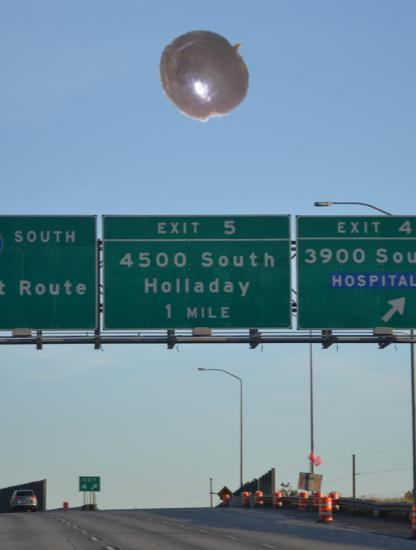Passion: (158, 27, 254, 123)
